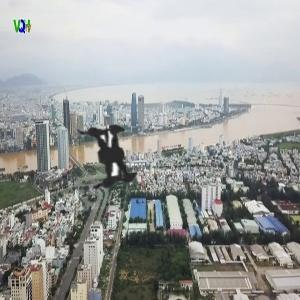drone: (7, 43, 219, 255)
